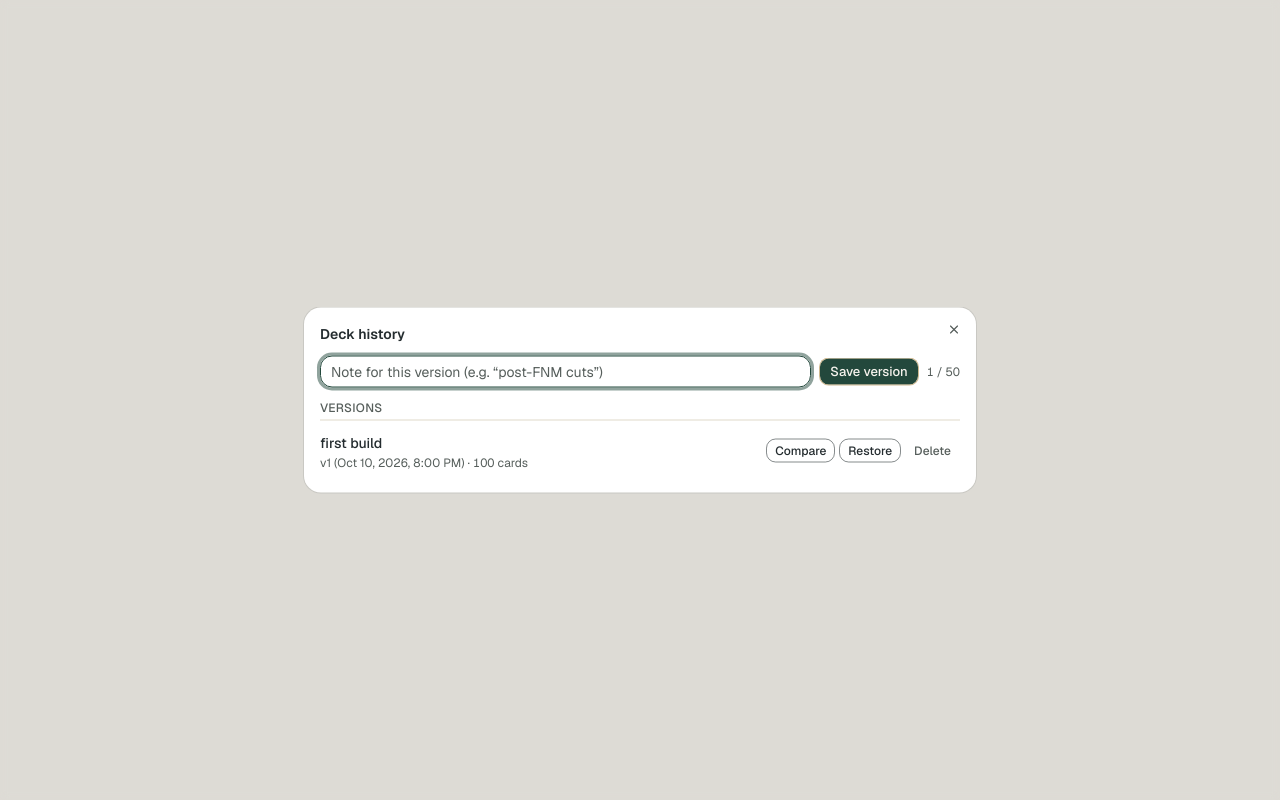
Test: HistoryDialog — Compare, Restore, Delete › Compare diffs the version to the live list, by name, and presses its button
Check: the dialog "Deck history" shows "first build", box [320, 434, 382, 452]
What coordinates should you click on to do the following:
click the button "Compare"
I would click on:
 (801, 450)
Its box is [766, 438, 835, 462].
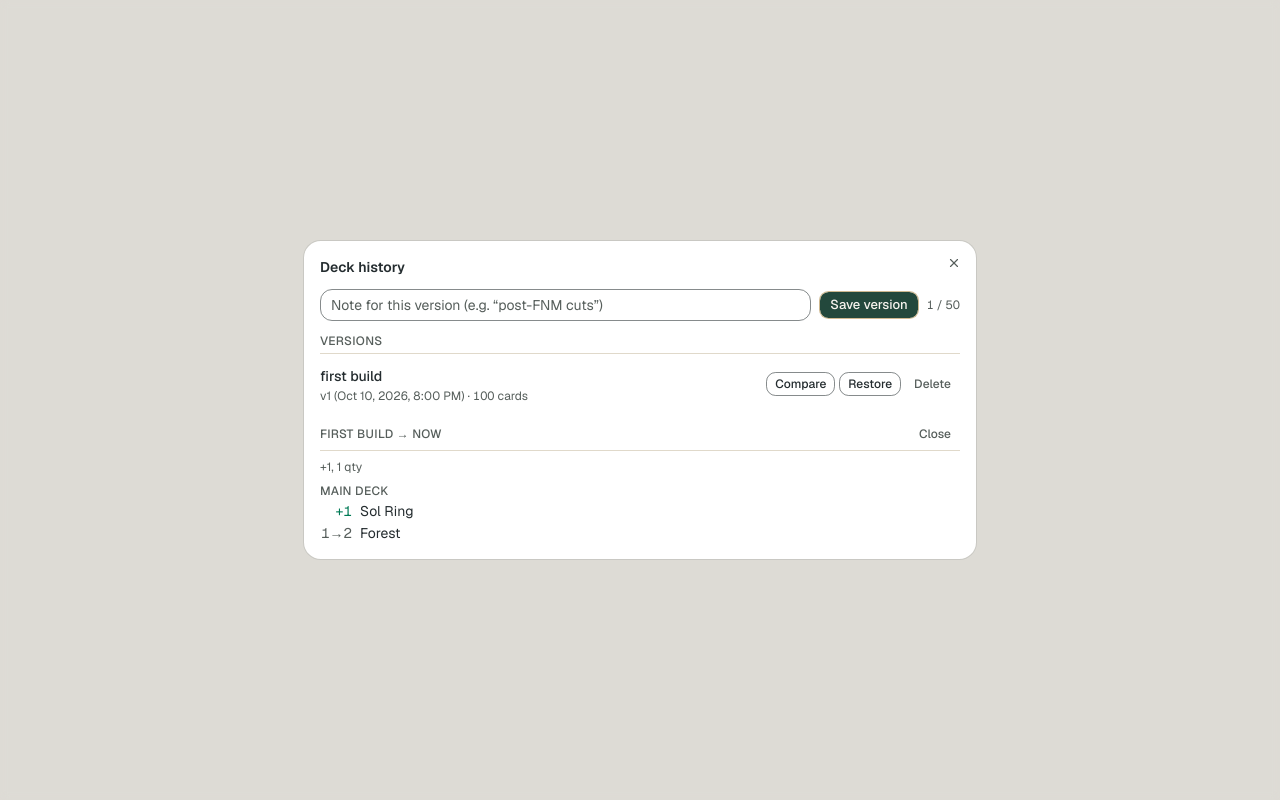
Check: the dialog "Deck history" shows "first build → now", box [304, 241, 976, 559]
Check: the dialog "Deck history" shows "+1, 1 qty", box [320, 459, 362, 475]
Check: the dialog "Deck history" shows "Sol Ring", box [360, 502, 414, 520]
